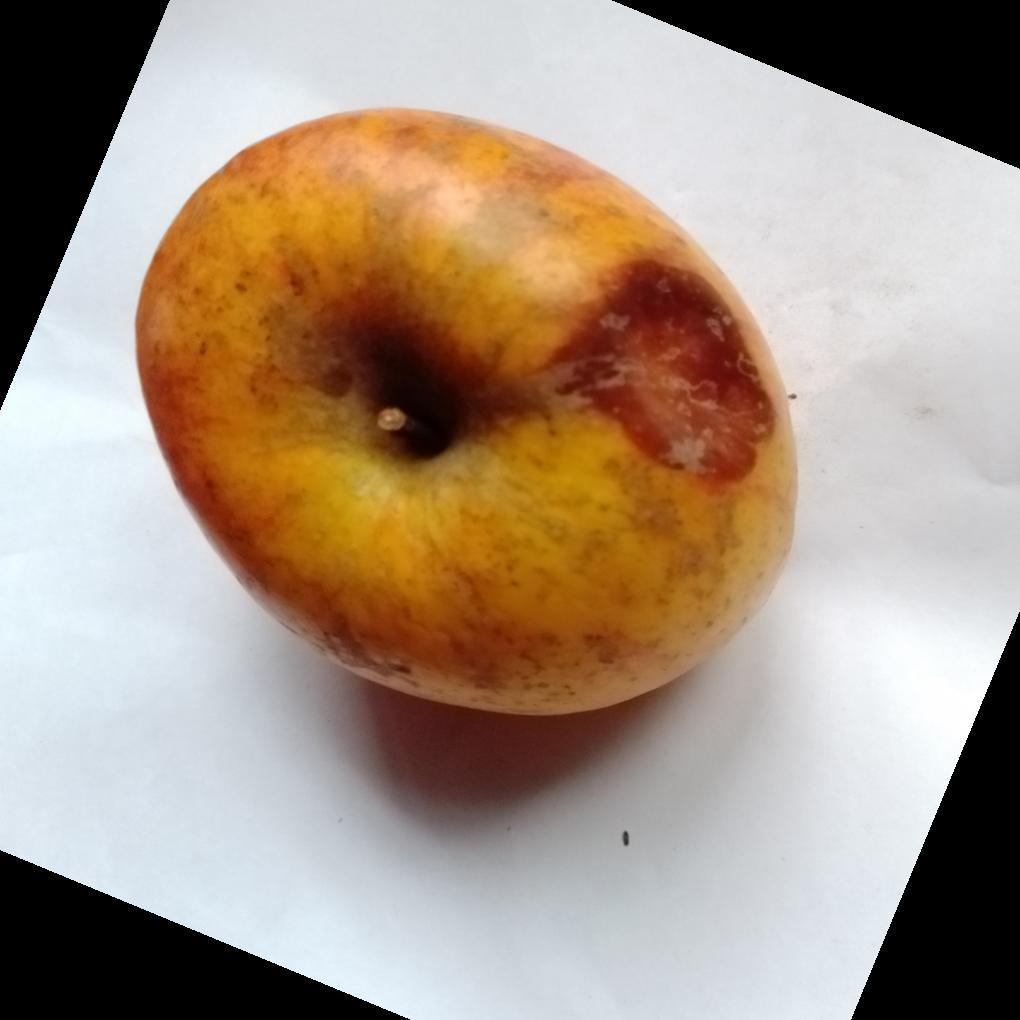FreshOrange: (134, 108, 800, 721)
